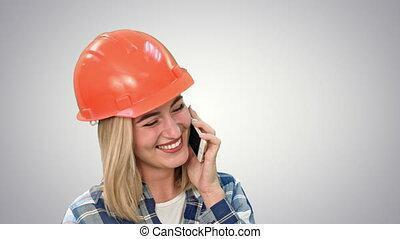helmet: (73, 28, 195, 121)
